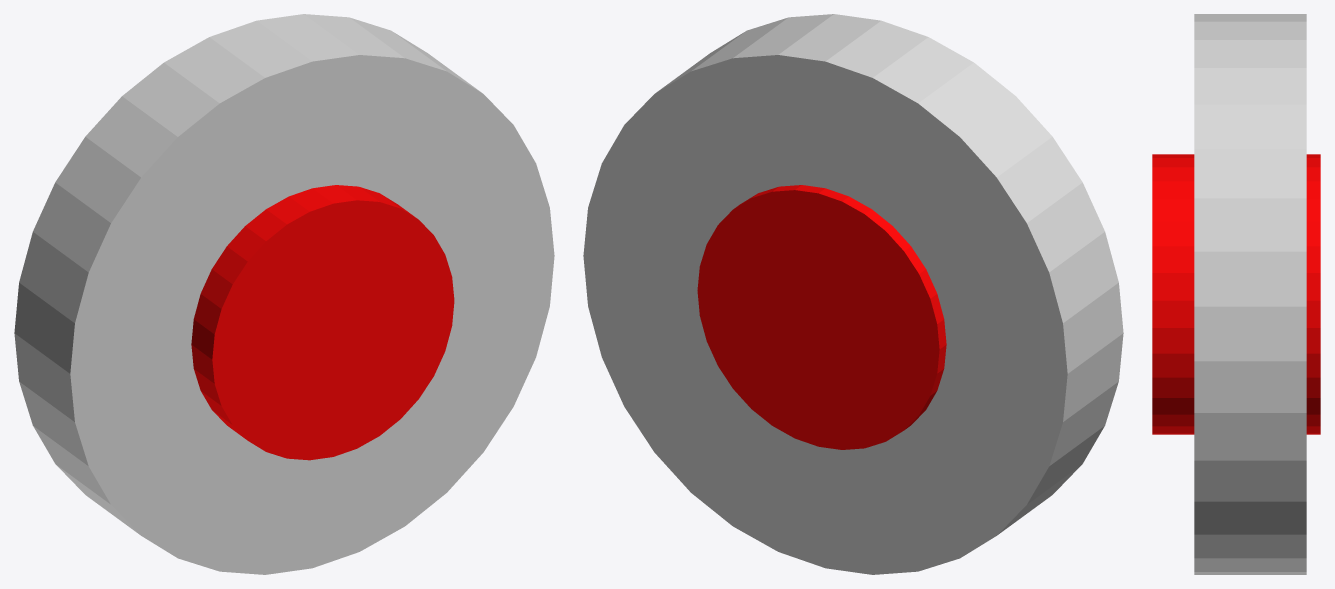
File: record_button.glb
The picture shows the model from 3 angles, left to right: view 1: azimuth 30°, elevation 25°; view 2: azimuth 150°, elevation 25°; view 3: azimuth 270°, elevation 25°; orthographic projection.
Parts seen in each view (by area): view 1: Record_Button_Base; view 2: Record_Button_Base; view 3: Record_Button_Base.
Part boxes in pixels (left/top/right/bottom): Record_Button_Base: left=14, top=14, right=554, bottom=574; Record_Button_Base: left=583, top=14, right=1123, bottom=574; Record_Button_Base: left=1152, top=14, right=1320, bottom=574.
Size of the model in its own units: 2 by 2 by 0.6.
